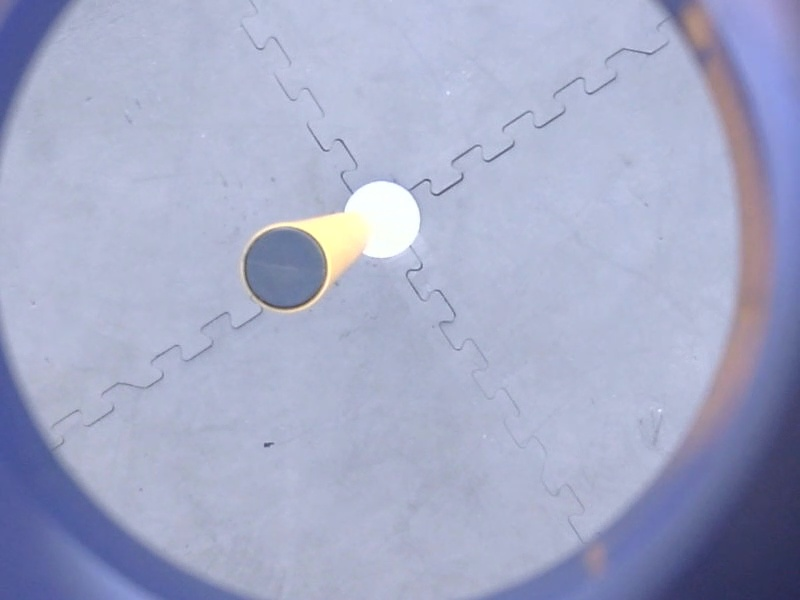tip: (232, 216, 336, 320)
